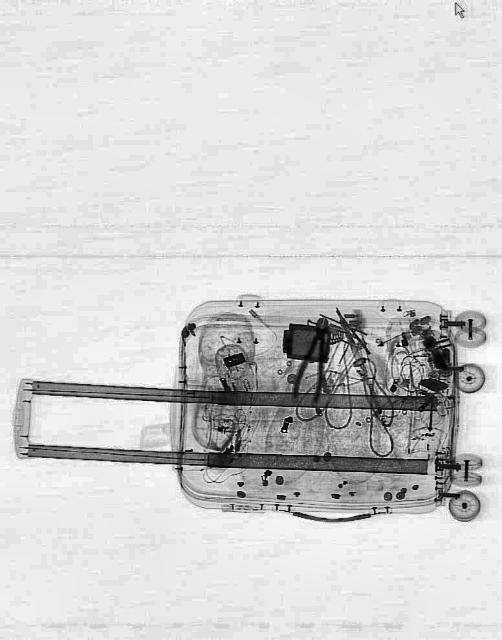Pliers: (291, 312, 337, 404)
